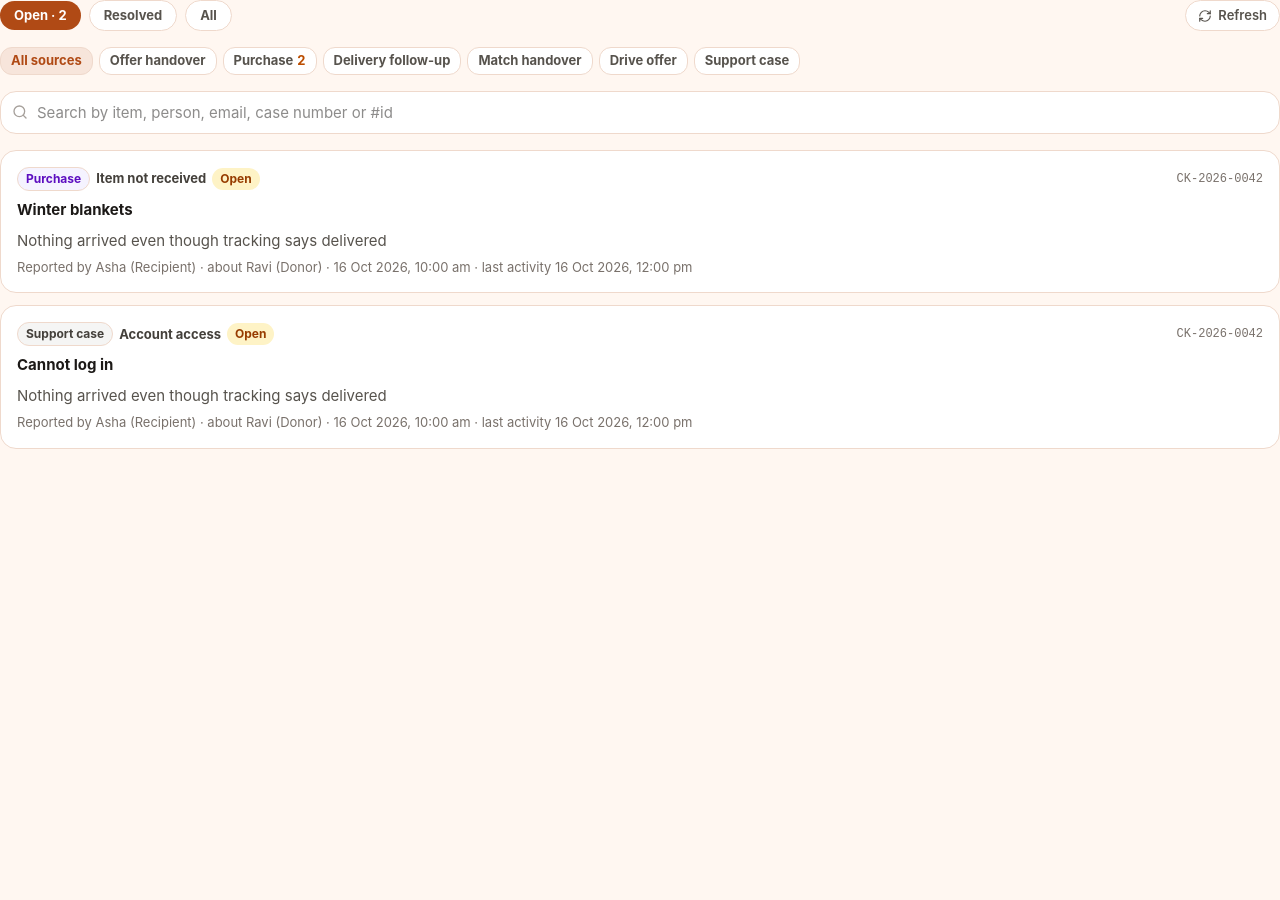
Test case: IssuesPanel › opens the whole story, read-only
The width and height of the screenshot is (1280, 900).
Click the button with aria-label "Open issue: Winter blankets" at (640, 222), box [0, 150, 1279, 293]
(page scrolled)
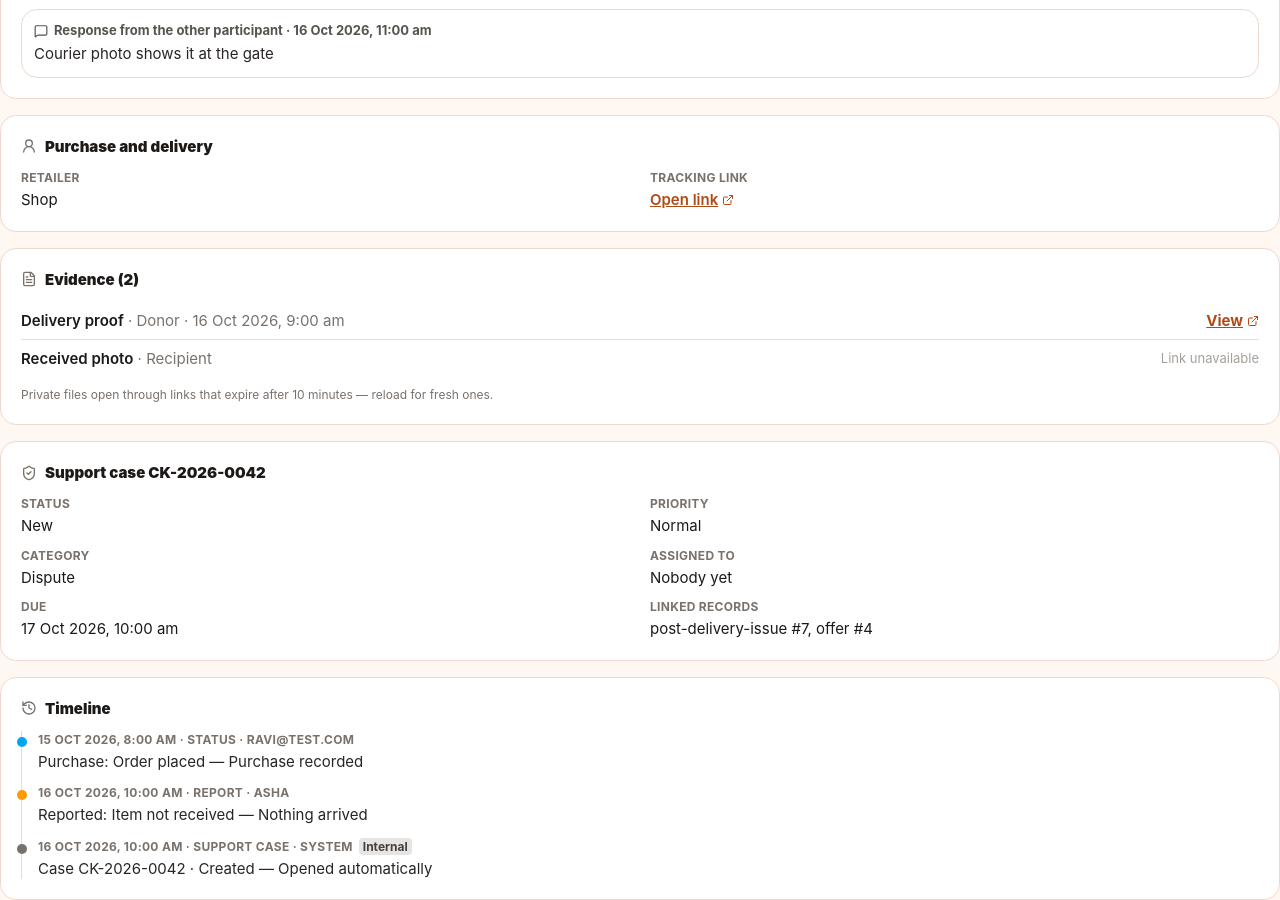
Result: the text "Courier photo shows it at the gate" is shown at [34, 44, 274, 63]
Result: the heading "Purchase and delivery" is shown at [21, 137, 213, 156]
Result: the text "Shop" is shown at [21, 190, 58, 209]
